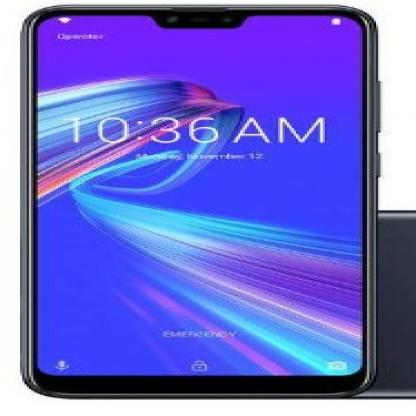SMARTPHONE: (21, 6, 390, 399)
